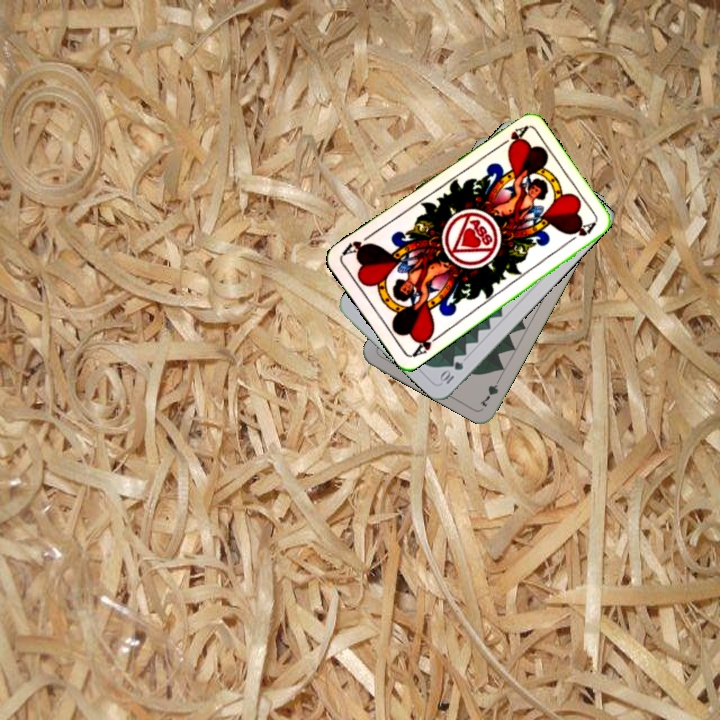G10: (435, 357, 466, 387)
G7: (476, 372, 504, 409)
HA: (408, 327, 444, 360), (493, 122, 530, 151)
